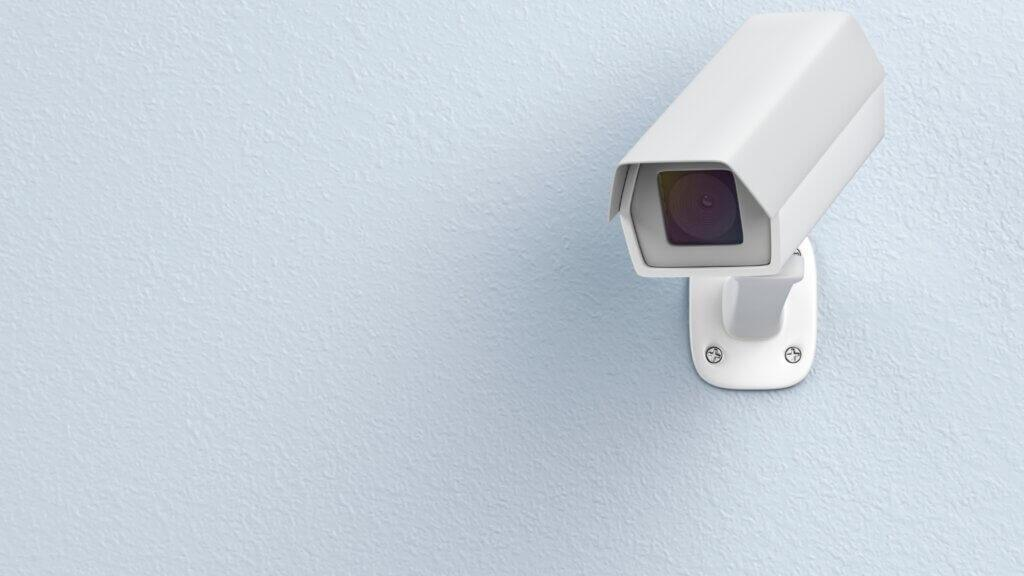------------------------------: (605, 0, 901, 297)
